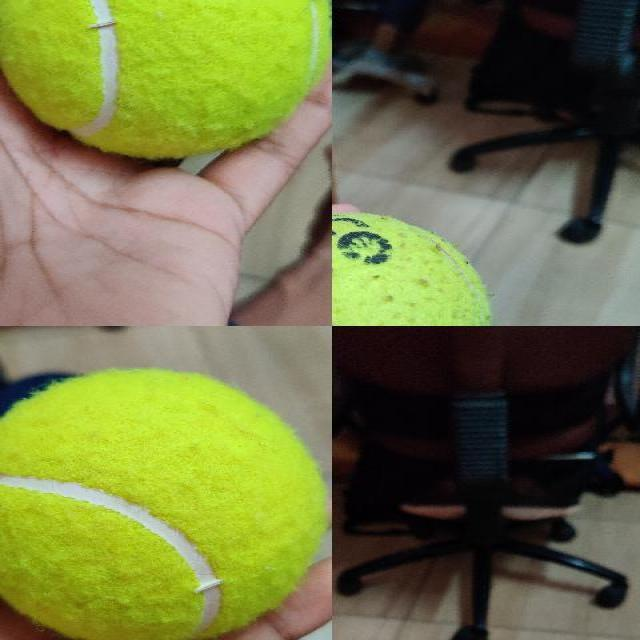tennis-ball: (0, 369, 325, 639), (0, 0, 330, 157), (332, 211, 490, 325)
